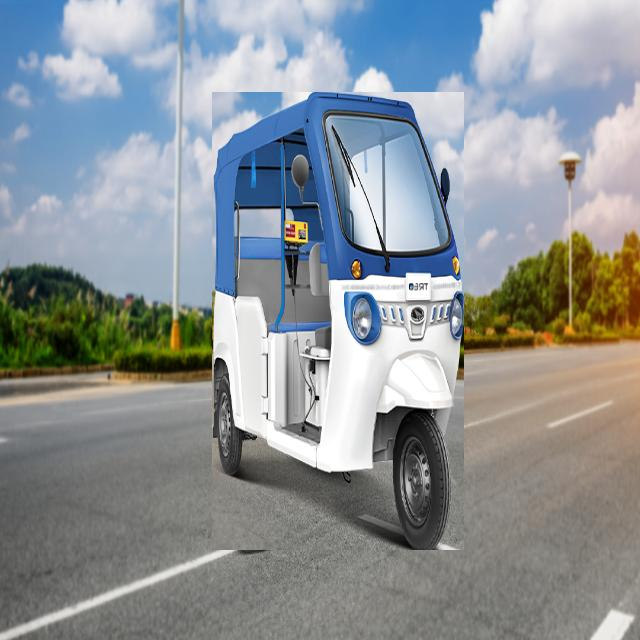autorickshaw: (212, 93, 464, 550)
